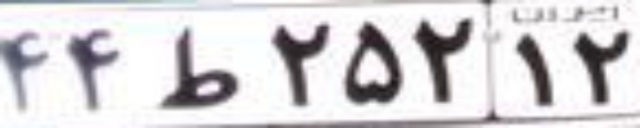1: (512, 33, 553, 105)
2: (266, 21, 333, 105), (415, 18, 479, 102), (573, 31, 632, 104)
4: (62, 27, 122, 112), (1, 30, 53, 113)
5: (339, 21, 406, 104)
taa: (156, 28, 243, 108)
